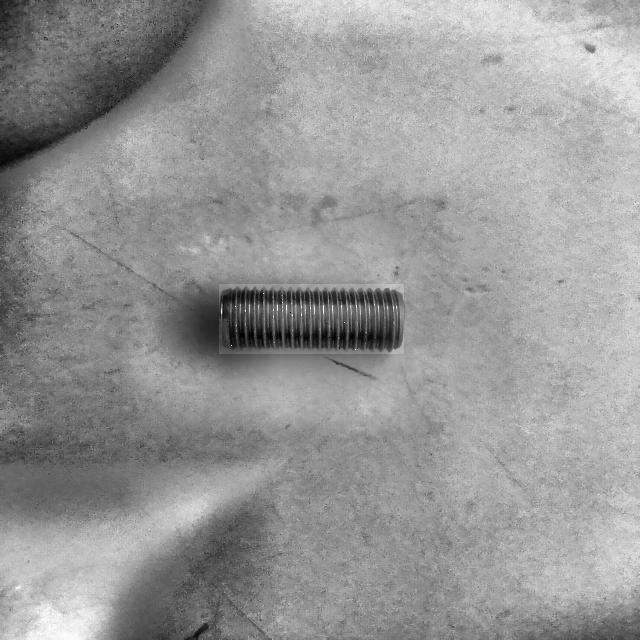Normal: (219, 284, 404, 354)
